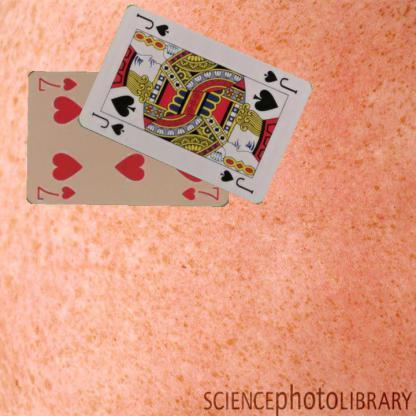7h: (35, 183, 77, 201)
Js: (260, 67, 299, 96), (88, 109, 126, 137)
